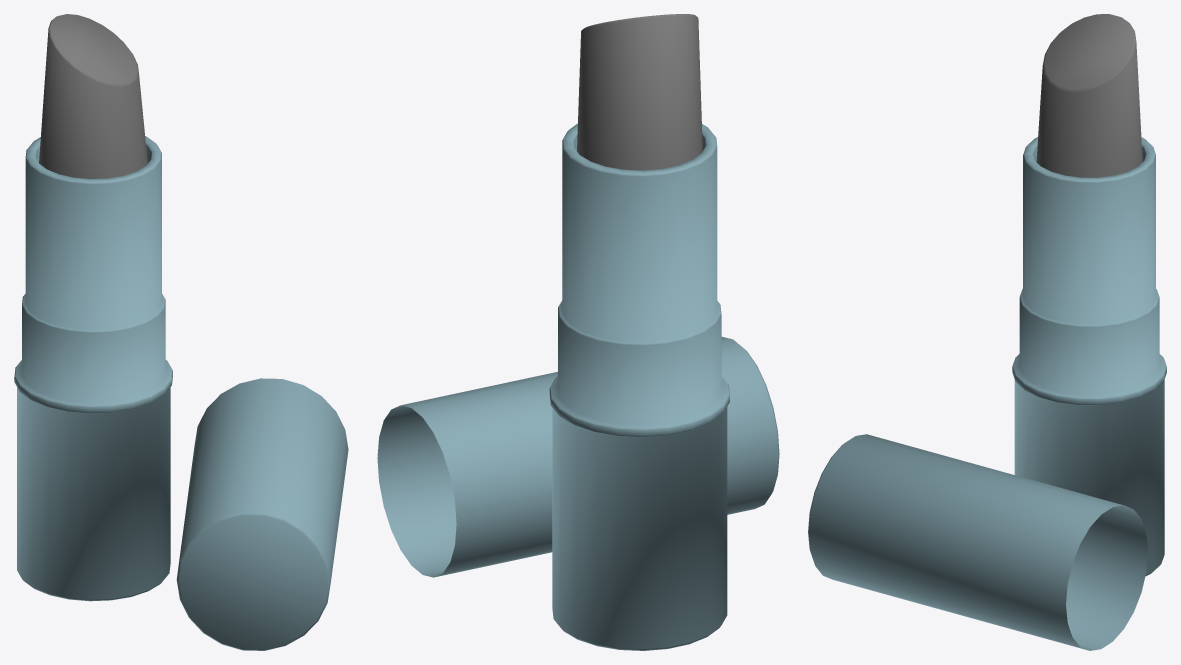
The model's file is Lipstick.fbx.
3 views of the same model, side by side, from view 1: azimuth 30°, elevation 25°; view 2: azimuth 150°, elevation 25°; view 3: azimuth 270°, elevation 25° (orthographic). The views are drawn at different scales.
Visible parts, largest first — view 1: Lipstick2; view 2: Lipstick2; view 3: Lipstick2.
Boxes of the visible parts, box(x1,y1,x2,y2) form: Lipstick2: box(14, 14, 348, 650); Lipstick2: box(377, 14, 779, 650); Lipstick2: box(808, 14, 1166, 650).
Size of the model in its own units: 0.3777 by 0.6313 by 0.3887.
